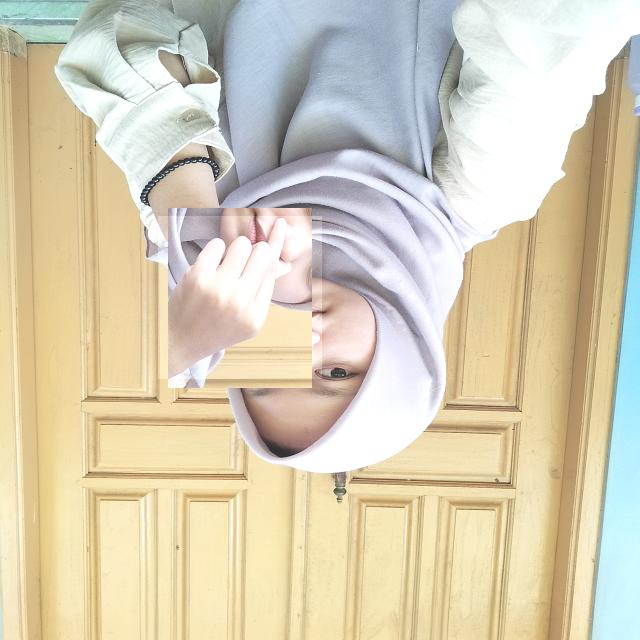bau: (158, 216, 322, 379)
